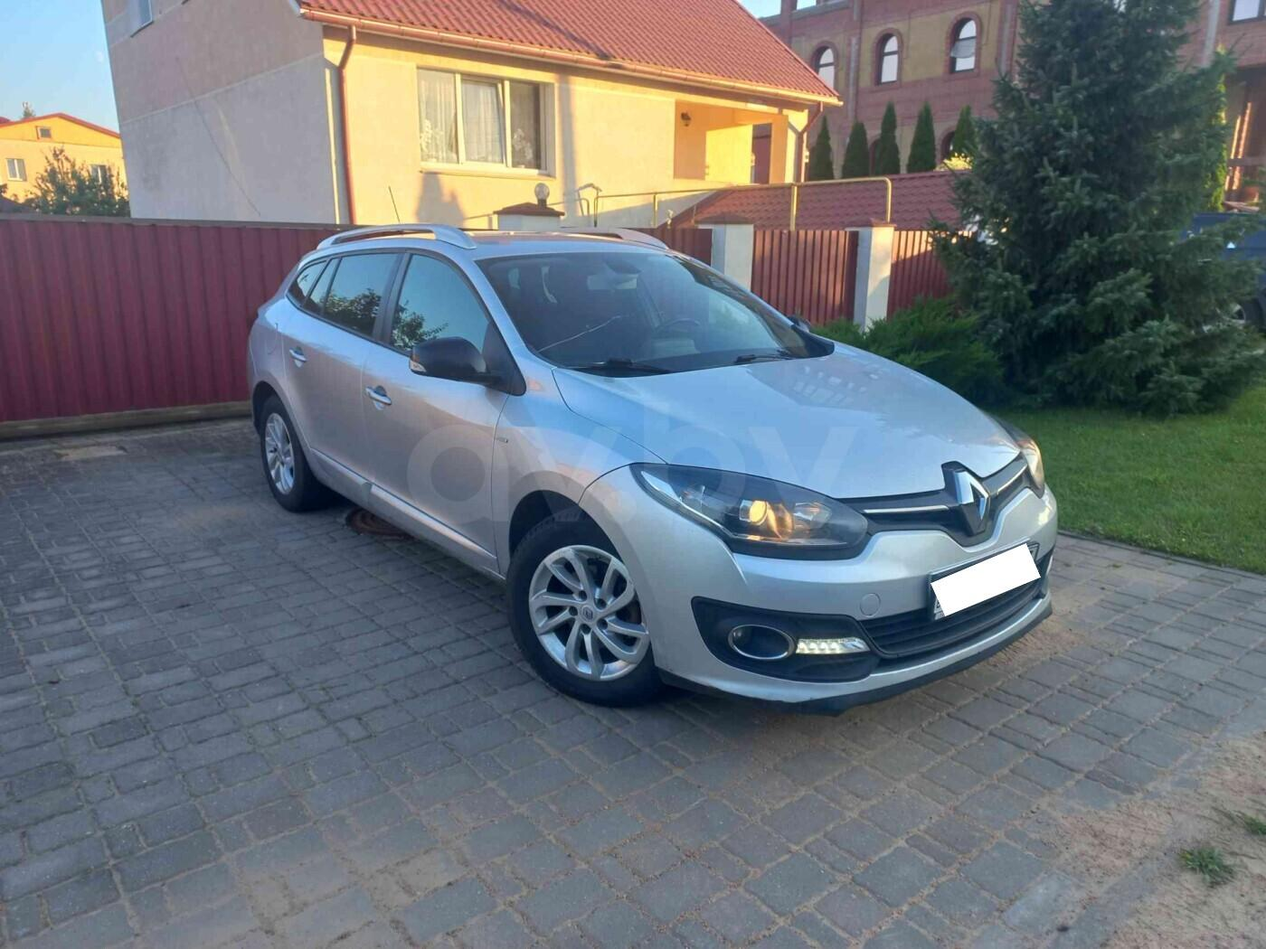Megane_2012-2014: (243, 222, 1066, 715)
